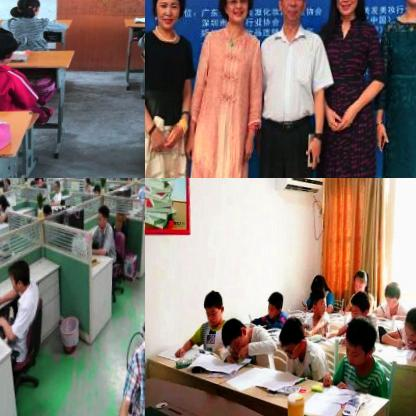head: (345, 316, 378, 366), (279, 317, 310, 361), (222, 316, 254, 353), (7, 259, 34, 296), (149, 0, 185, 27), (204, 287, 227, 325), (351, 291, 372, 323), (219, 0, 249, 22), (266, 291, 287, 322), (0, 33, 21, 63), (308, 288, 329, 318), (12, 0, 45, 18), (353, 267, 372, 296), (385, 281, 403, 310), (276, 0, 306, 17), (310, 272, 330, 297), (404, 306, 416, 346), (332, 0, 362, 15), (94, 204, 109, 228), (0, 191, 9, 209), (42, 201, 52, 217), (53, 179, 61, 193), (3, 178, 11, 188), (83, 178, 90, 186), (94, 183, 100, 192)
